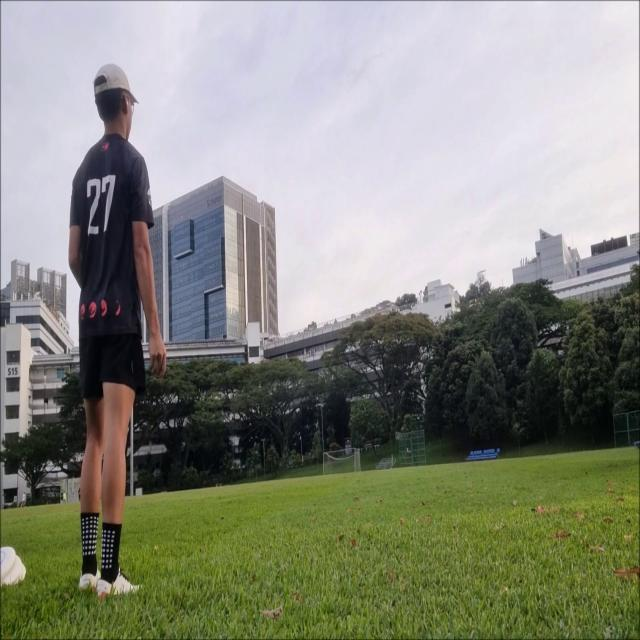disc: (478, 269, 487, 274)
